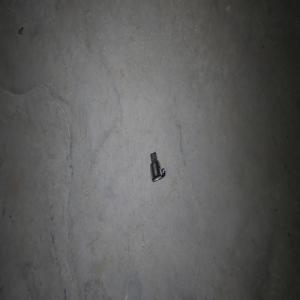MetalPart: (149, 151, 165, 181)
